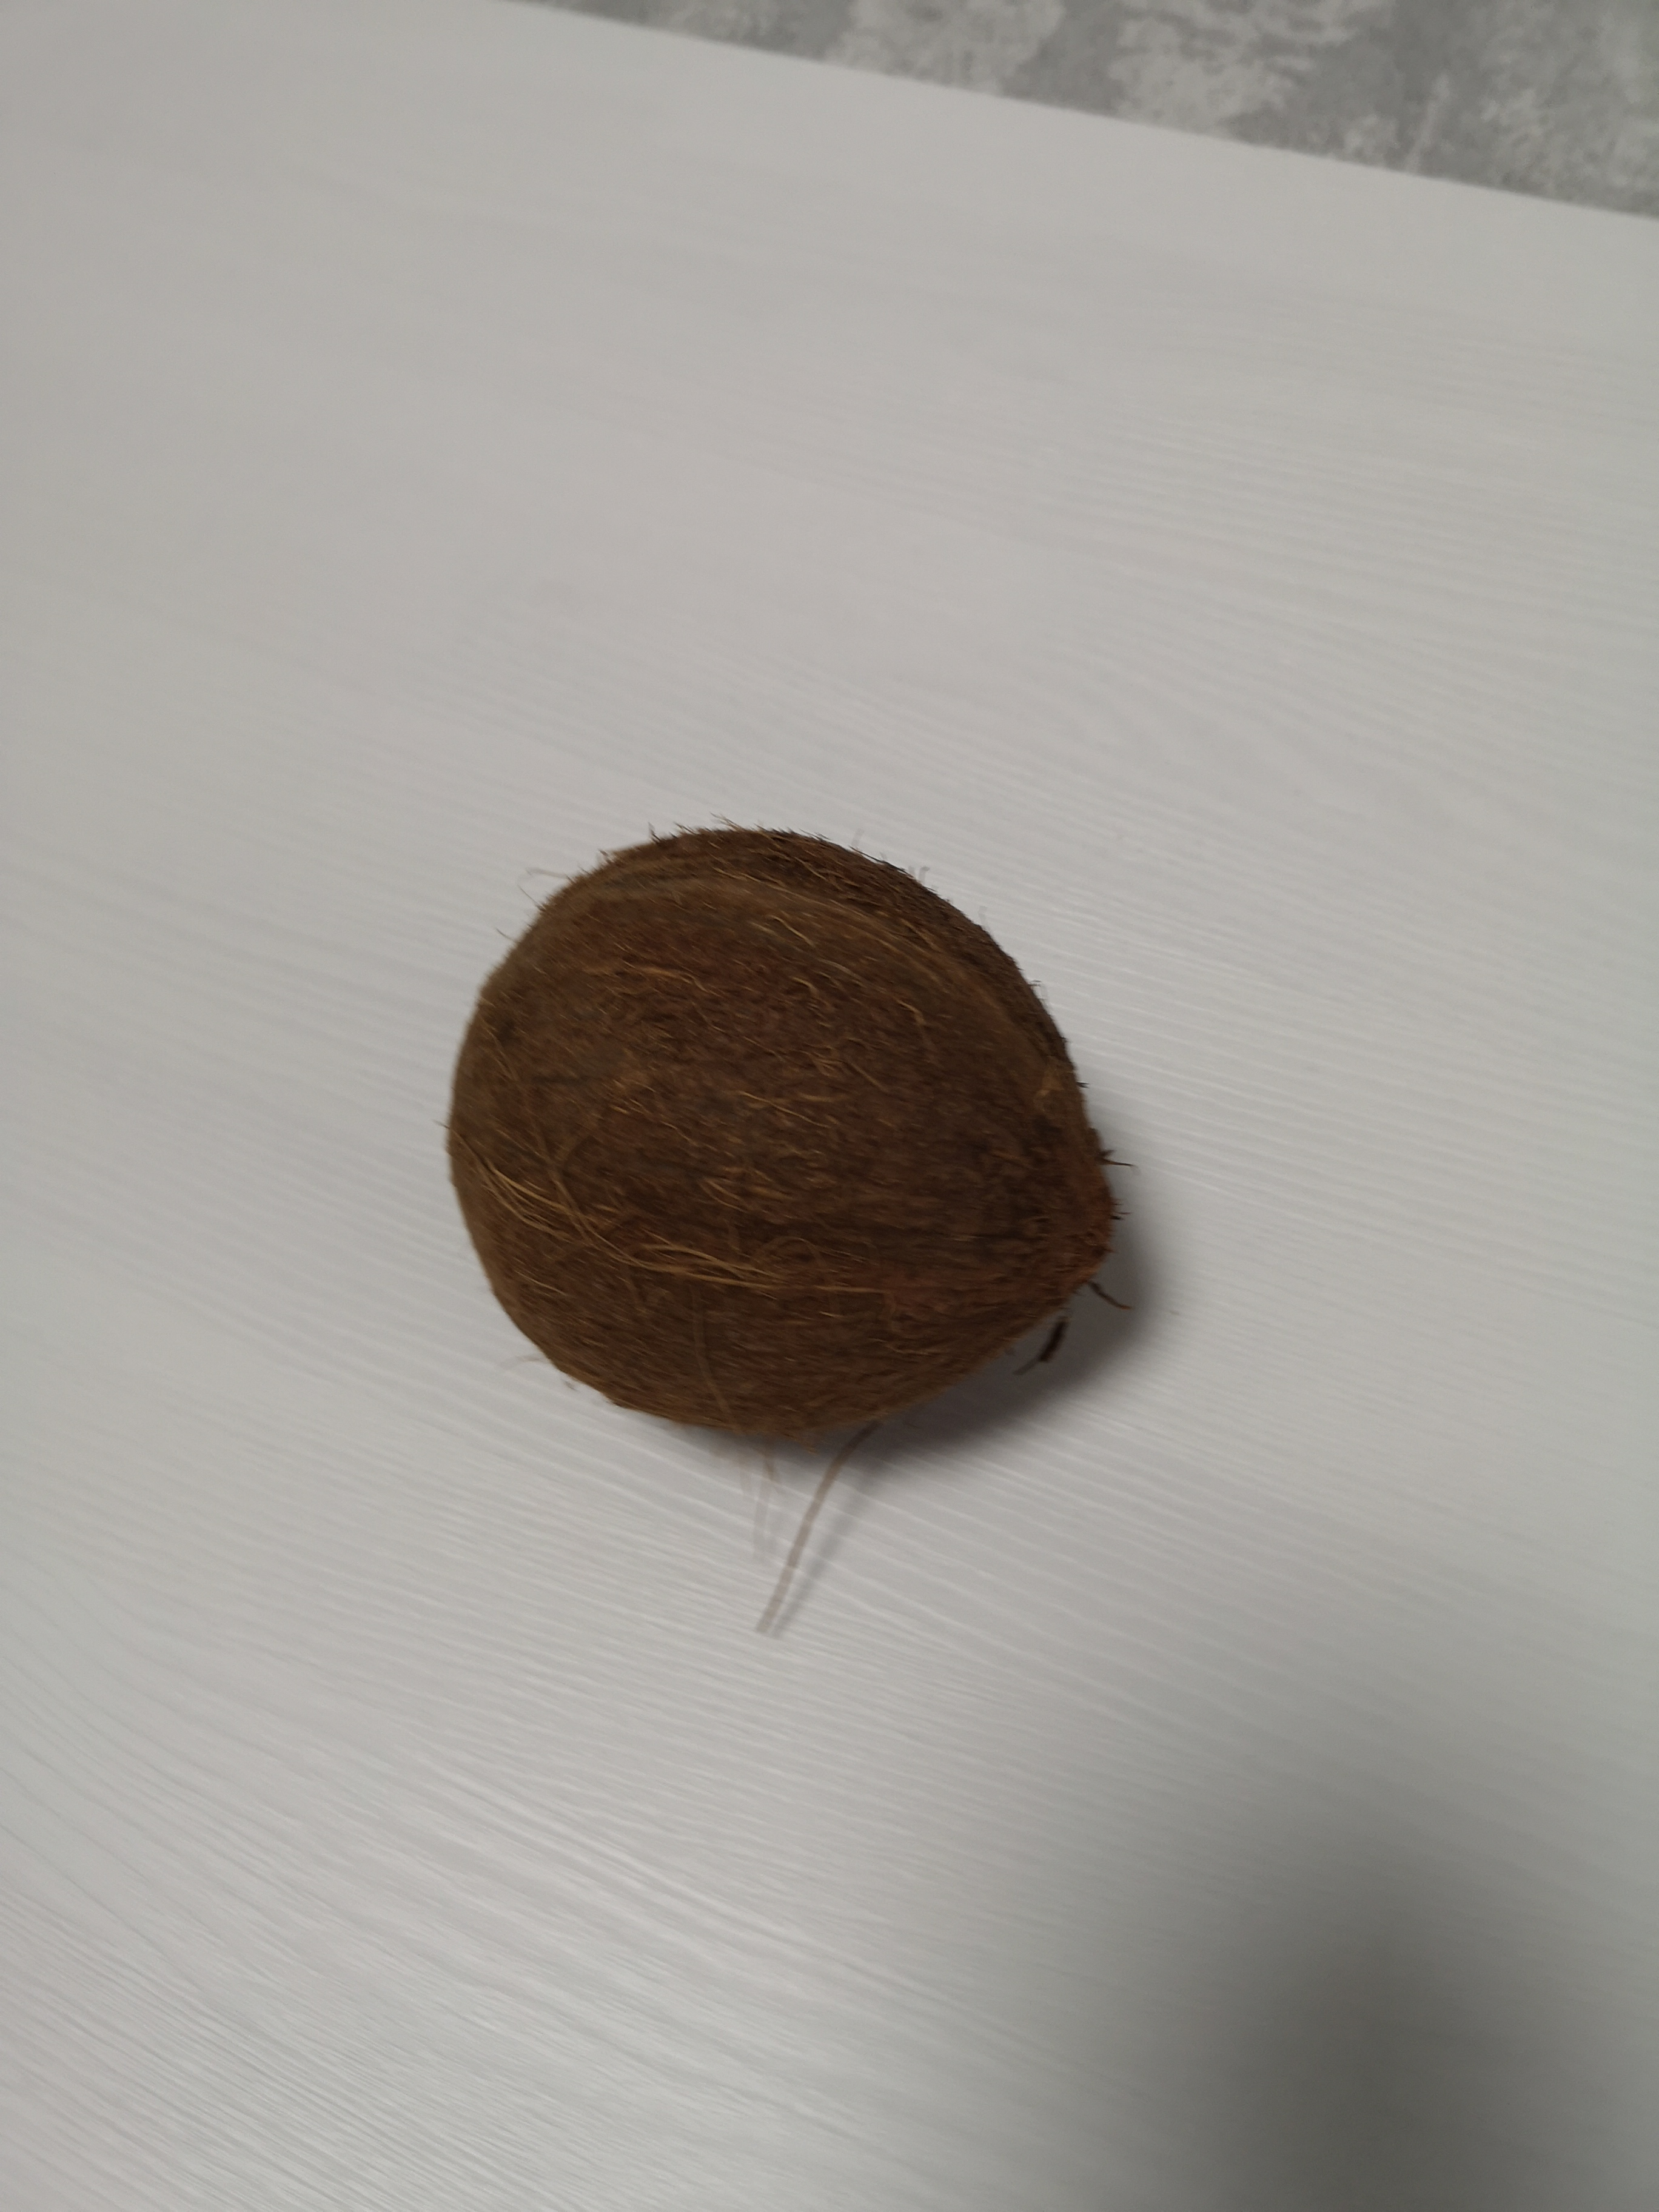coconut: (444, 817, 1134, 1458)
